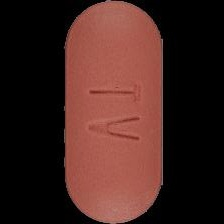0093-7156: (0, 0, 224, 224)
